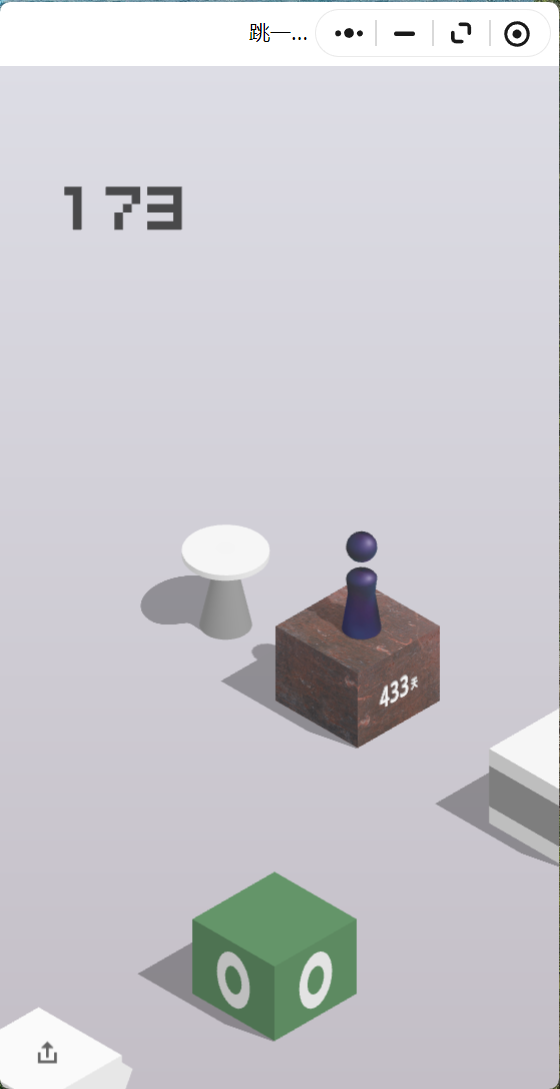piece: (347, 532, 377, 637)
target: (182, 524, 271, 575)
